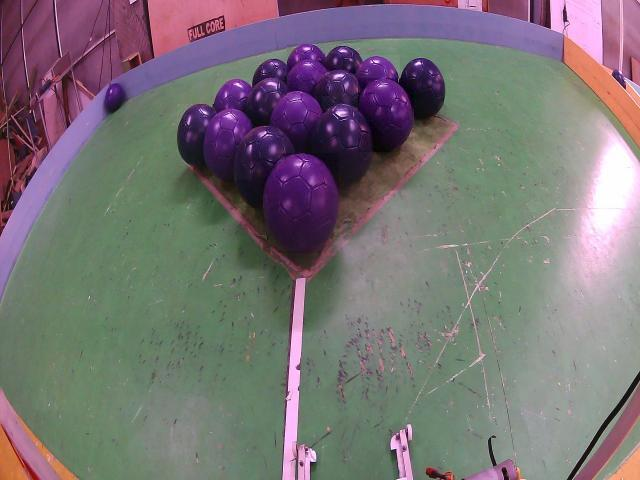jambhalya: (264, 154, 339, 253), (358, 78, 413, 152), (203, 108, 252, 180), (270, 92, 322, 153), (355, 55, 400, 89), (287, 60, 328, 96), (214, 79, 252, 113), (287, 45, 324, 71), (105, 83, 125, 112)
kaalyya: (311, 105, 374, 185), (234, 127, 294, 208), (400, 59, 445, 118), (177, 105, 215, 166), (245, 78, 290, 127), (315, 70, 362, 110), (324, 46, 362, 74), (253, 60, 290, 87)
